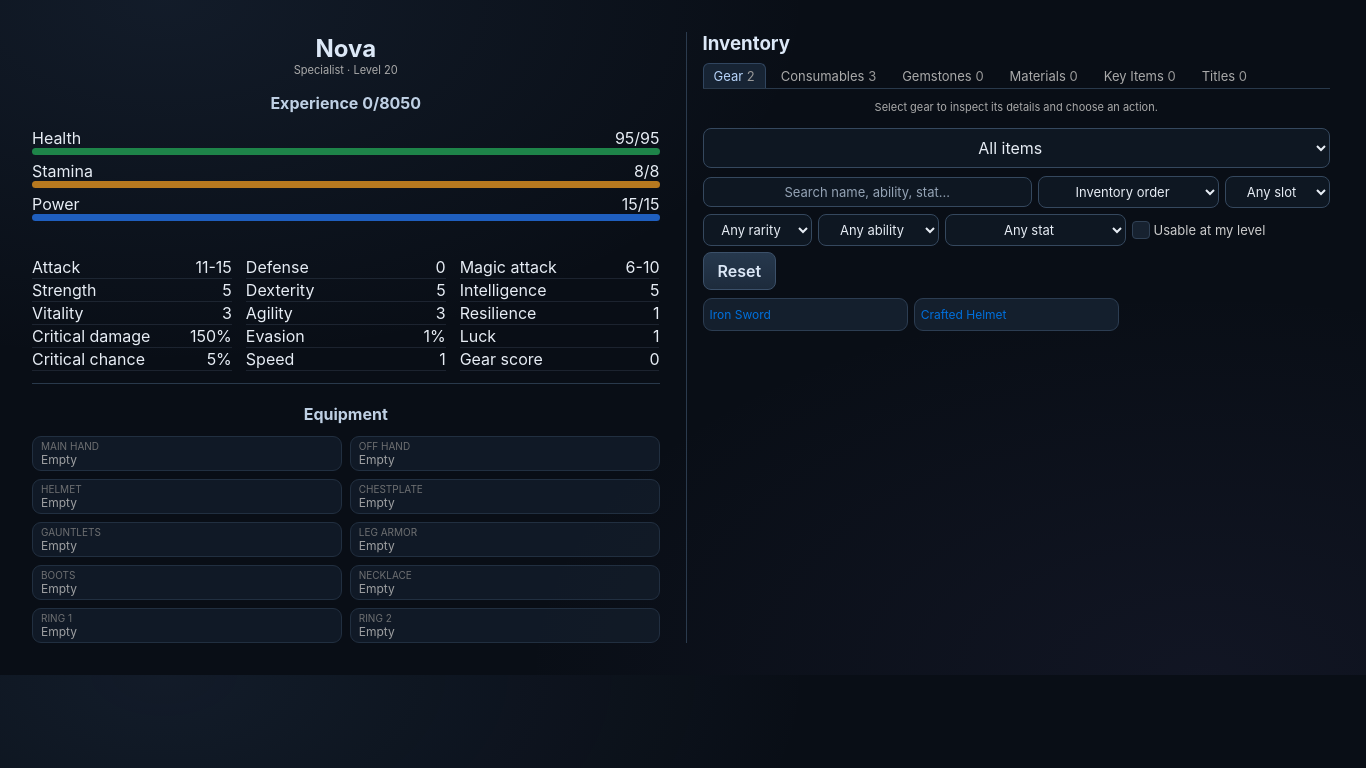
the unpredictability rune can be applied without choosing a main stat
The width and height of the screenshot is (1366, 768).
Click the tab "Consumables 3".
click(828, 76)  # box [770, 63, 887, 88]
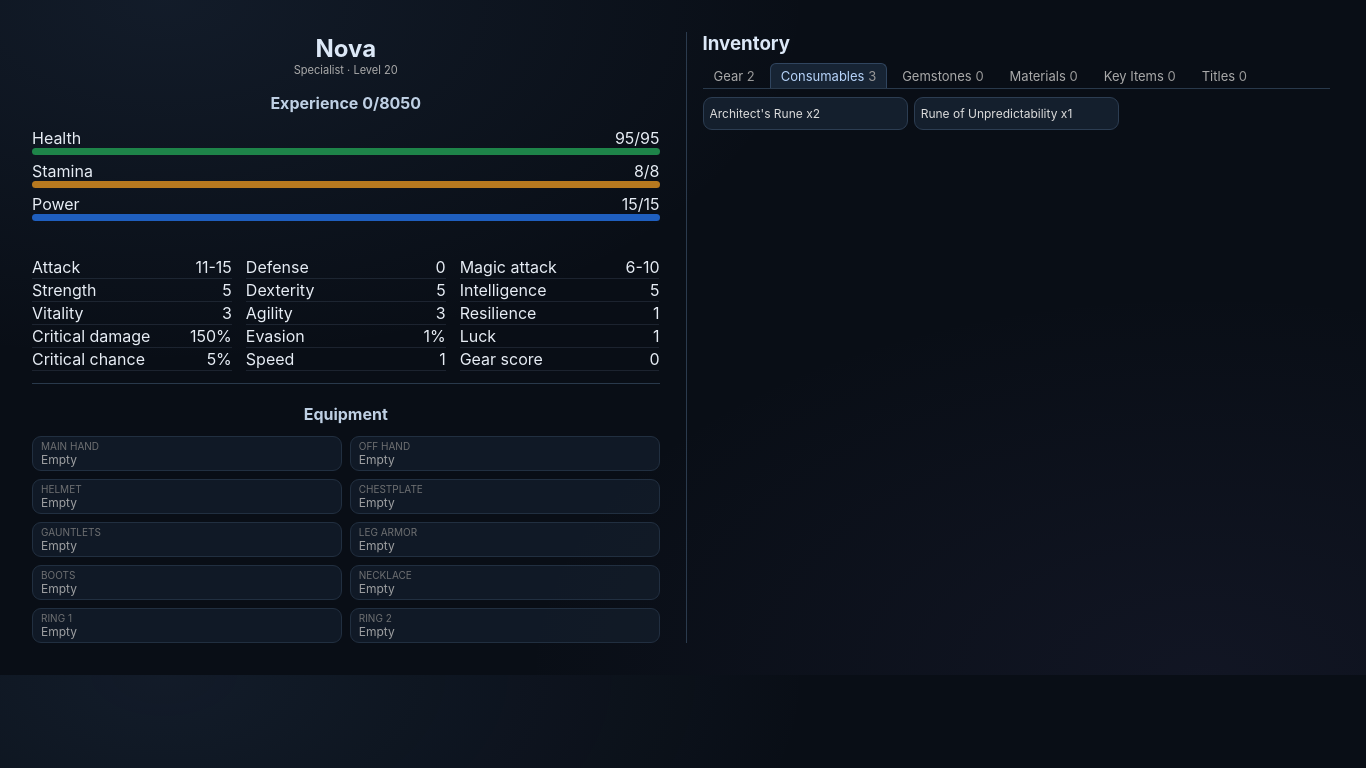
Click the button "Rune of Unpredictability x1".
click(1016, 114)  # box [914, 97, 1119, 130]
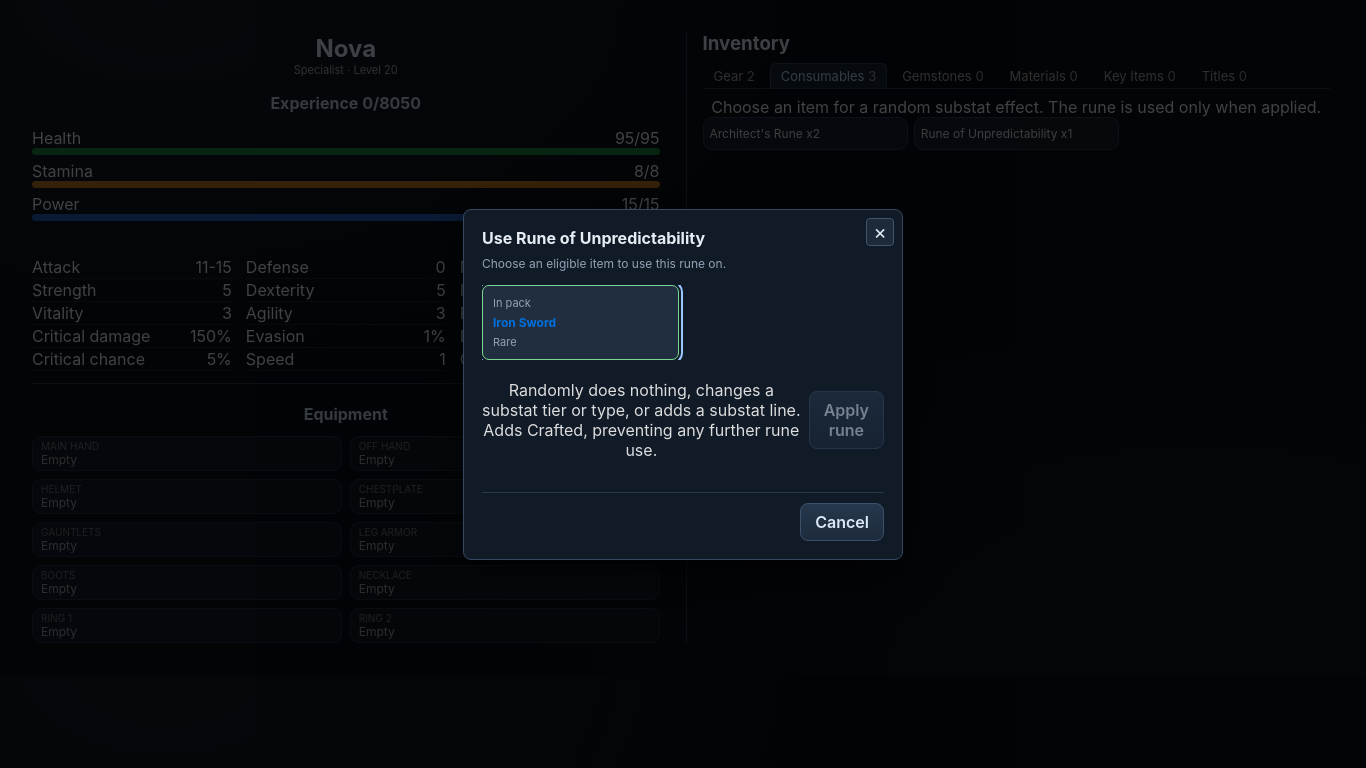
Click the button "In pack Iron Sword Rare".
click(580, 322)  # box [482, 284, 679, 360]
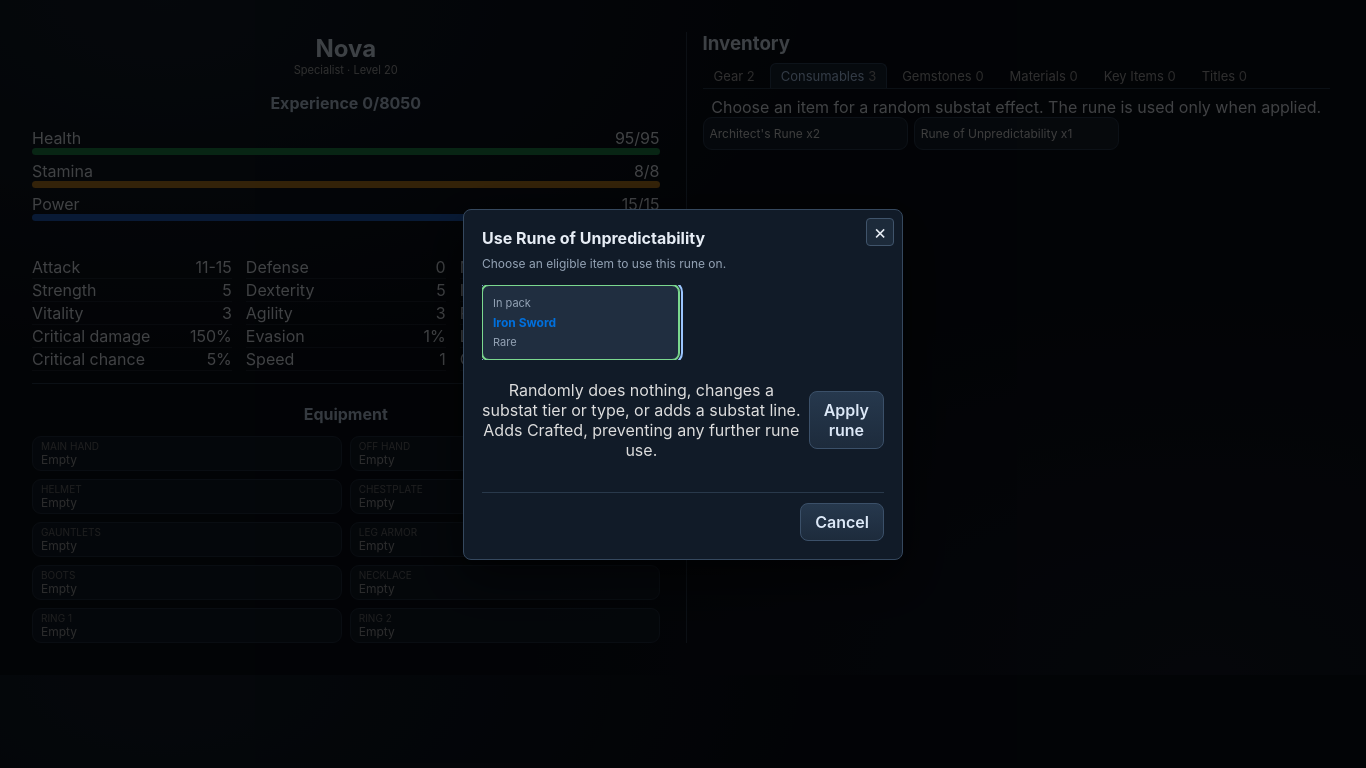
Check: the button "Apply rune" is enabled
Click the button "Apply rune".
click(846, 420)  # box [809, 390, 884, 448]
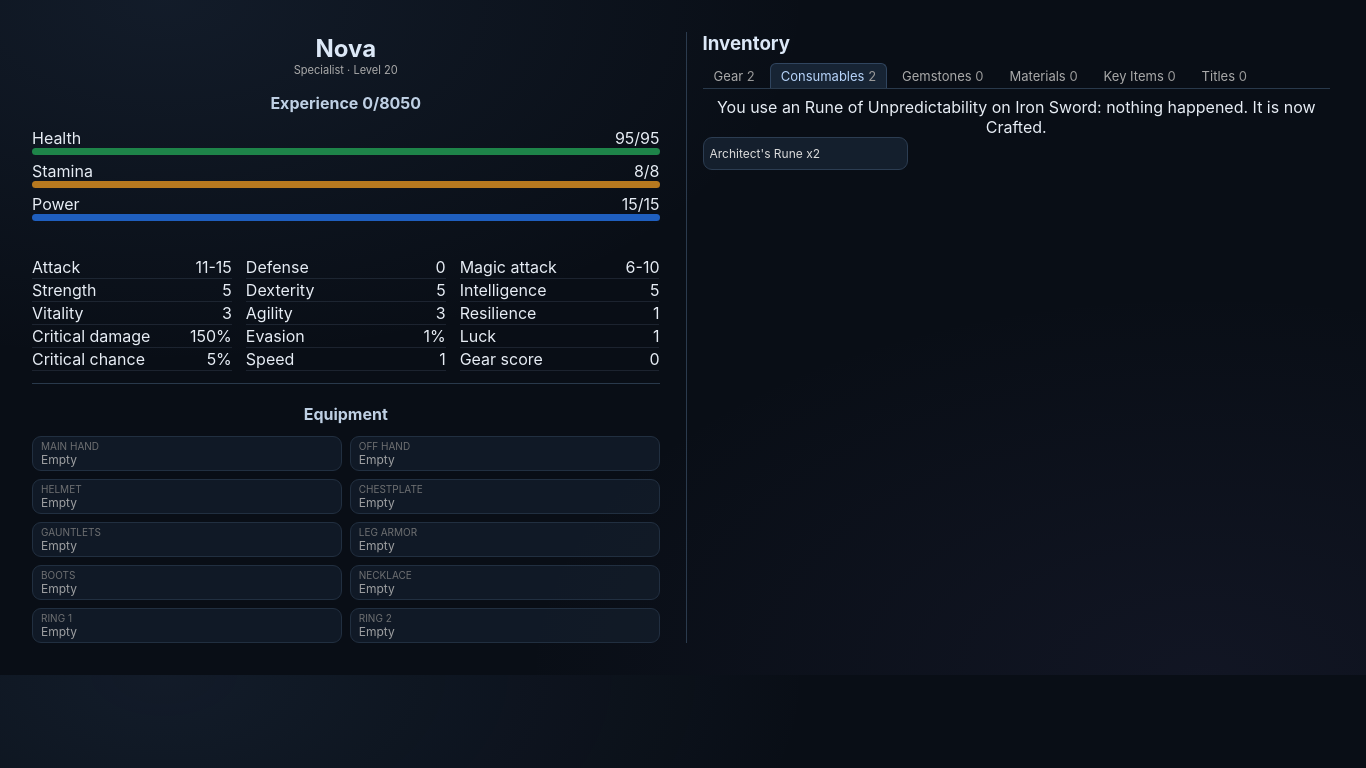
Check: the message shows "nothing happened", box [717, 97, 1316, 137]
